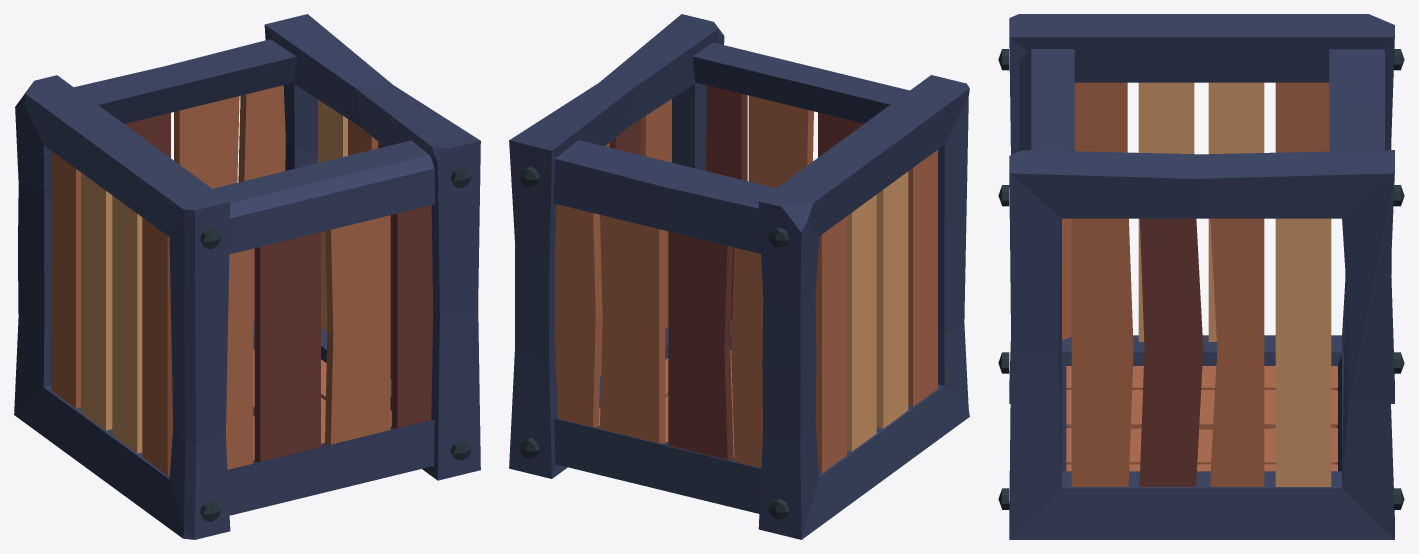
The model's file is Box Wood 03.fbx.
The picture shows the model from 3 angles, left to right: view 1: azimuth 30°, elevation 25°; view 2: azimuth 150°, elevation 25°; view 3: azimuth 270°, elevation 25°; orthographic projection. The views are drawn at different scales.
Parts seen in each view (by area): view 1: Box Wood 03; view 2: Box Wood 03; view 3: Box Wood 03.
Boxes of the visible parts, x1,y1,x2,y2 form: Box Wood 03: (14,14,480,539); Box Wood 03: (509,14,969,539); Box Wood 03: (998,14,1404,539).
Size of the model in its own units: 86.88 by 93.15 by 93.55.
